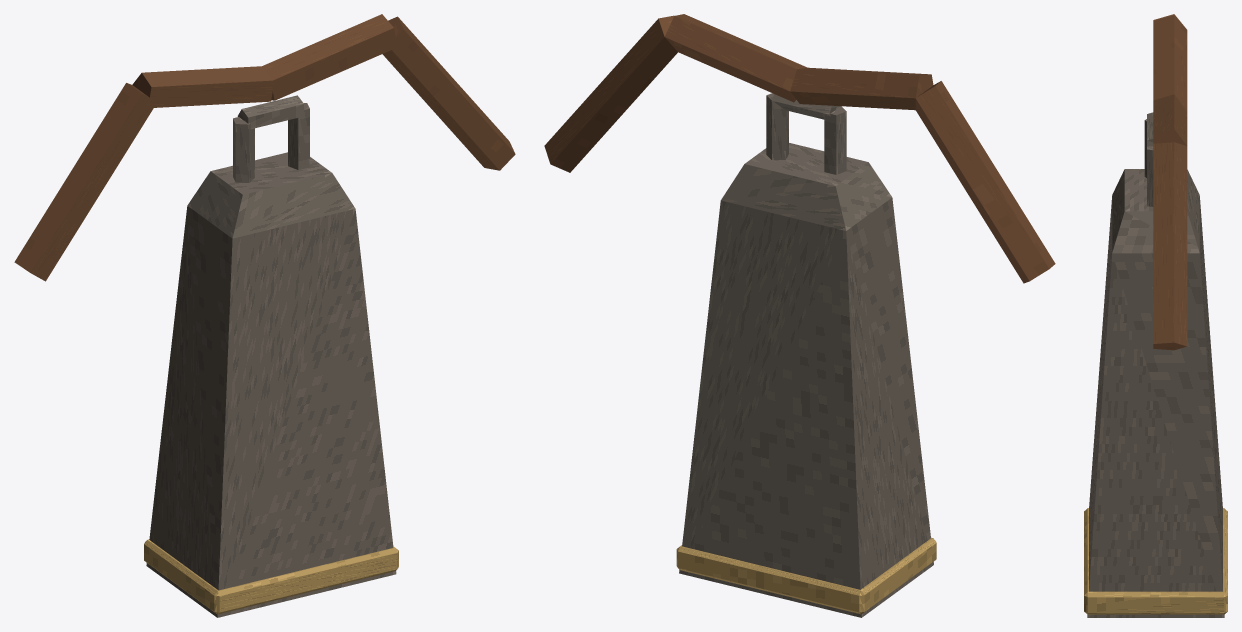
File: cow_bell.glb
The picture shows the model from 3 angles, left to right: view 1: azimuth 30°, elevation 25°; view 2: azimuth 150°, elevation 25°; view 3: azimuth 270°, elevation 25°; orthographic projection. The views are drawn at different scales.
Visible parts, largest first — view 1: block_flared bell body, block_bell crown, block_leather collar strap 0, block_brass mouth rim, block_leather collar strap 3, block_leather collar strap 2, block_leather collar strap 1, block_hanging loop 1, block_hanging loop 0, block_hanging loop 2; view 2: block_flared bell body, block_bell crown, block_leather collar strap 0, block_brass mouth rim, block_leather collar strap 3, block_leather collar strap 2, block_leather collar strap 1, block_hanging loop 0, block_hanging loop 2, block_hanging loop 1; view 3: block_flared bell body, block_leather collar strap 3, block_brass mouth rim, block_bell crown, block_leather collar strap 1, block_leather collar strap 2, block_hanging loop 2, block_hanging loop 1.
Boxes of the visible parts, bbox=[...] form: block_flared bell body: bbox=[146, 206, 396, 617]; block_bell crown: bbox=[187, 152, 355, 238]; block_leather collar strap 0: bbox=[14, 83, 156, 281]; block_brass mouth rim: bbox=[144, 539, 398, 614]; block_leather collar strap 3: bbox=[382, 16, 515, 170]; block_leather collar strap 2: bbox=[262, 14, 397, 100]; block_leather collar strap 1: bbox=[132, 66, 274, 108]; block_hanging loop 1: bbox=[237, 95, 303, 129]; block_hanging loop 0: bbox=[233, 117, 254, 182]; block_hanging loop 2: bbox=[288, 103, 309, 169]; block_flared bell body: bbox=[679, 198, 933, 617]; block_bell crown: bbox=[721, 143, 892, 230]; block_leather collar strap 0: bbox=[915, 81, 1055, 283]; block_brass mouth rim: bbox=[676, 537, 936, 614]; block_leather collar strap 3: bbox=[544, 15, 677, 172]; block_leather collar strap 2: bbox=[664, 14, 807, 102]; block_leather collar strap 1: bbox=[790, 67, 933, 110]; block_hanging loop 0: bbox=[824, 106, 846, 174]; block_hanging loop 2: bbox=[766, 93, 788, 160]; block_hanging loop 1: bbox=[772, 94, 839, 119]; block_flared bell body: bbox=[1087, 196, 1224, 617]; block_leather collar strap 3: bbox=[1153, 142, 1187, 350]; block_brass mouth rim: bbox=[1084, 508, 1227, 614]; block_bell crown: bbox=[1112, 169, 1199, 253]; block_leather collar strap 1: bbox=[1153, 15, 1187, 110]; block_leather collar strap 2: bbox=[1153, 94, 1187, 145]; block_hanging loop 2: bbox=[1147, 146, 1153, 206]; block_hanging loop 1: bbox=[1147, 112, 1153, 146].
Size of the model in its own units: 0.1994 by 0.2 by 0.0518.
2 materials, 2 textured.
